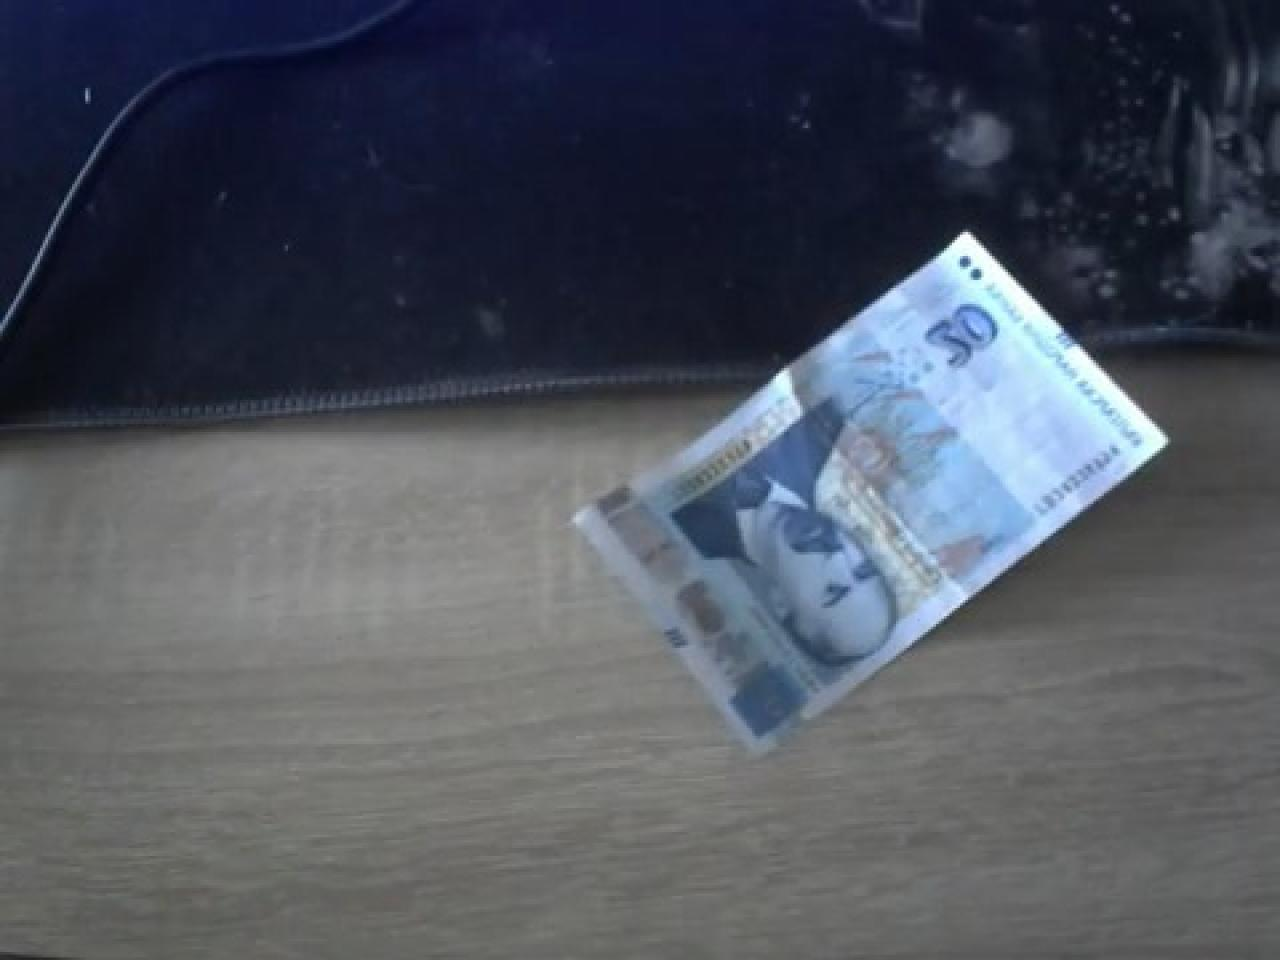20leva: (570, 227, 1170, 757)
